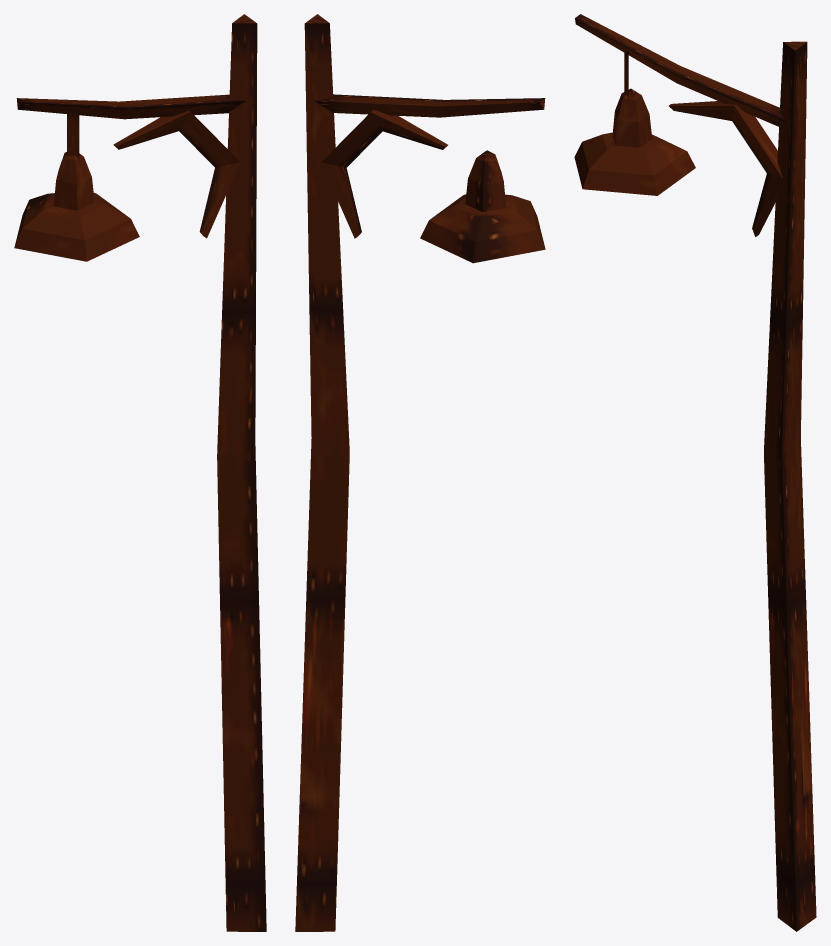
File: Laterne_2478.glb
3 views of the same model, side by side, from view 1: azimuth 30°, elevation 25°; view 2: azimuth 150°, elevation 25°; view 3: azimuth 330°, elevation 25° (orthographic). The views are drawn at different scales.
Visible parts, largest first — view 1: pCylinderShape25, pSphereShape2, pTorusShape5, pCylinderShape28, pSphereShape3, pPlaneShape8; view 2: pCylinderShape25, pSphereShape2, pCylinderShape28, pTorusShape5, pSphereShape3; view 3: pCylinderShape25, pSphereShape2, pCylinderShape28, pTorusShape5, pSphereShape3.
Boxes of the visible parts, bbox=[...] form: pCylinderShape25: bbox=[217, 14, 266, 931]; pSphereShape2: bbox=[14, 193, 139, 261]; pTorusShape5: bbox=[113, 110, 240, 238]; pCylinderShape28: bbox=[16, 94, 245, 119]; pSphereShape3: bbox=[53, 152, 94, 210]; pPlaneShape8: bbox=[67, 109, 79, 158]; pCylinderShape25: bbox=[295, 14, 349, 931]; pSphereShape2: bbox=[420, 194, 545, 263]; pCylinderShape28: bbox=[314, 94, 545, 117]; pTorusShape5: bbox=[321, 110, 447, 238]; pSphereShape3: bbox=[465, 150, 506, 212]; pCylinderShape25: bbox=[764, 41, 816, 931]; pSphereShape2: bbox=[574, 132, 695, 195]; pCylinderShape28: bbox=[575, 14, 787, 126]; pTorusShape5: bbox=[669, 101, 782, 236]; pSphereShape3: bbox=[612, 88, 652, 147].
Size of the model in its own units: 0.1932 by 0.6946 by 0.0892.
Materials: 6 (6 with a texture image).
